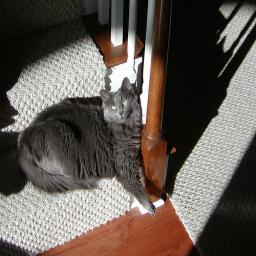catnose: (118, 110, 124, 117)
